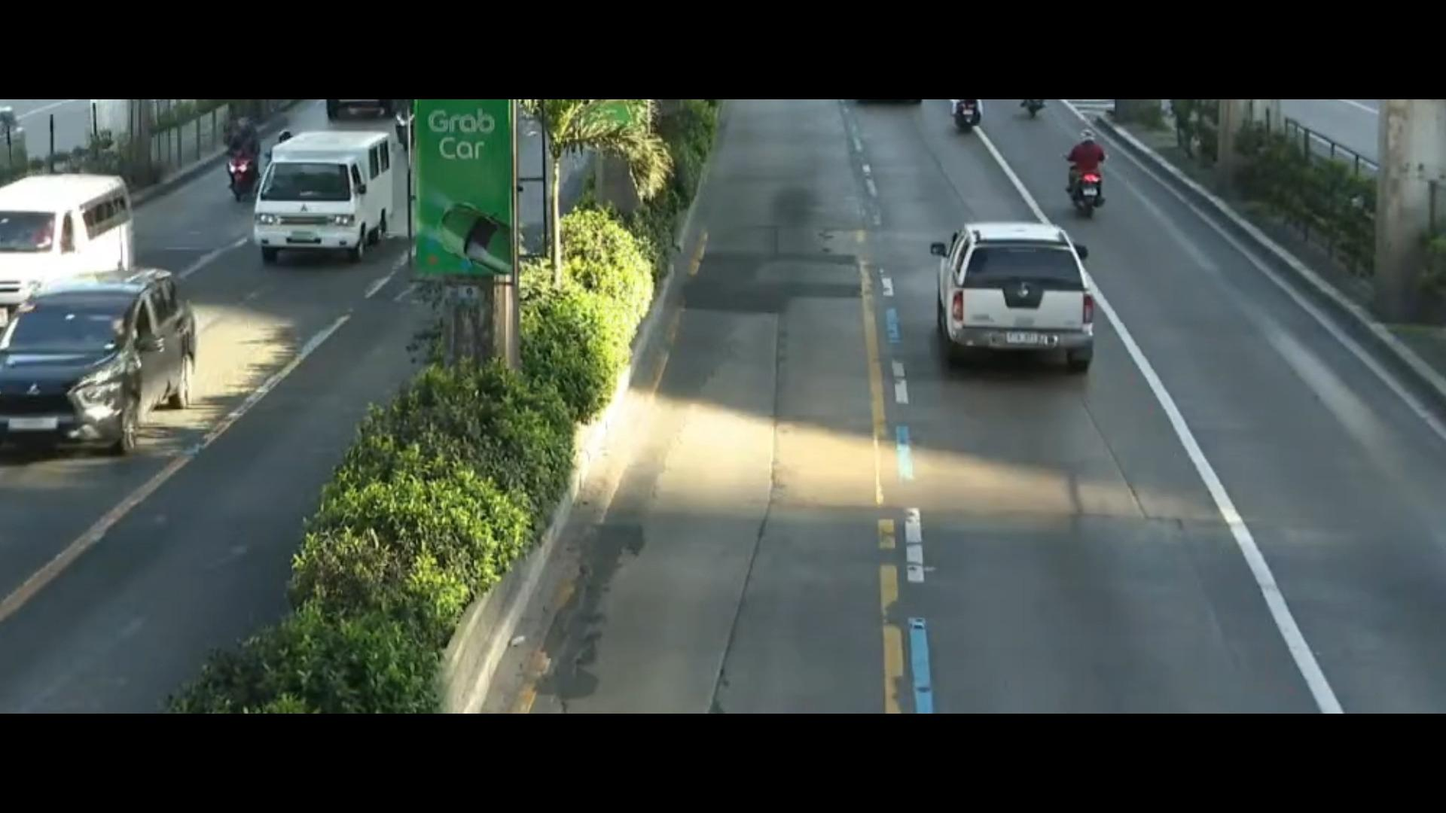Motorcycle: (1047, 111, 1122, 226), (209, 115, 270, 204)
Multicab: (236, 126, 405, 288)
SUV: (0, 254, 211, 483), (917, 211, 1118, 382)
Van: (0, 166, 159, 322)
